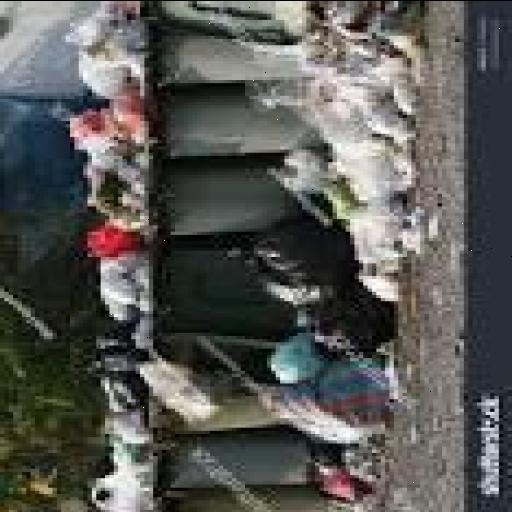poubelle_pleine: (92, 2, 340, 338), (87, 353, 355, 511)
